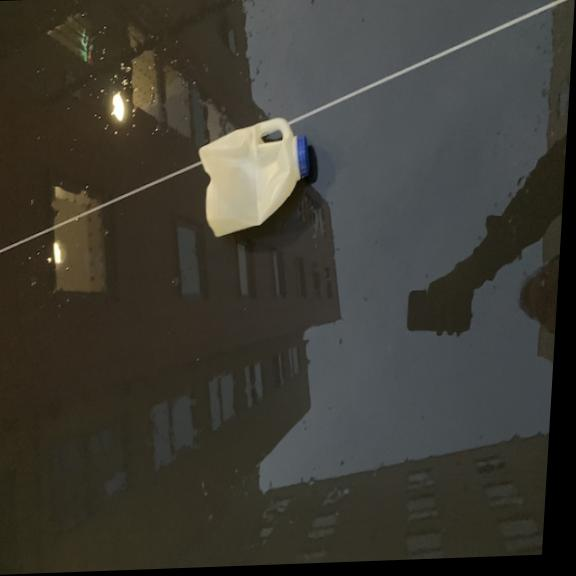Plastik: (192, 102, 322, 241)
